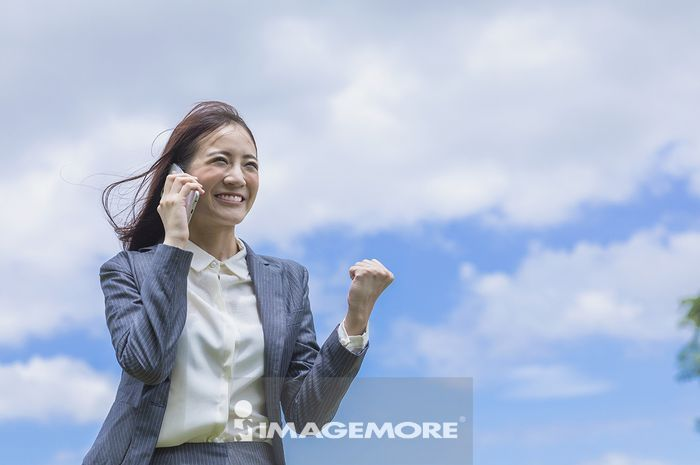phone: (167, 160, 199, 226)
talk: (157, 145, 259, 246)
